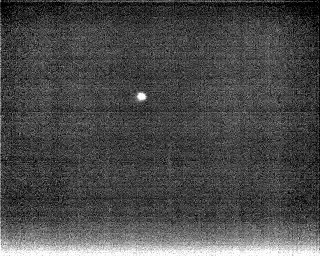AIRPLANE: (135, 90, 149, 103)
